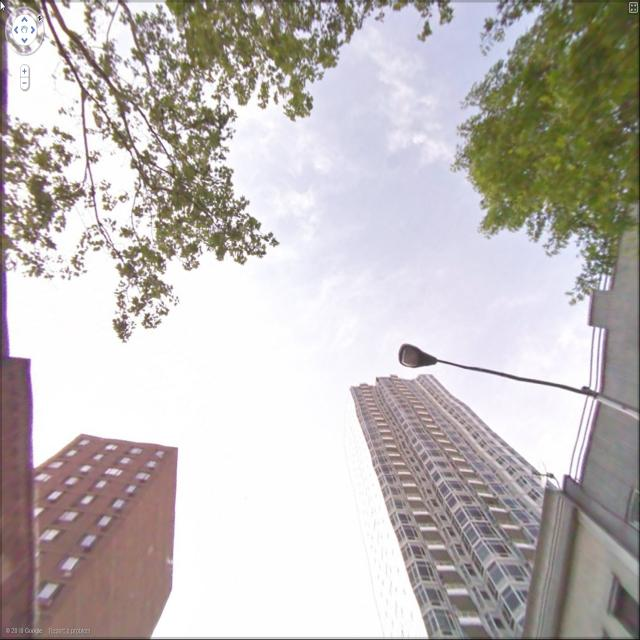b_1: (348, 378, 549, 640), (522, 239, 640, 628), (3, 440, 191, 640)
